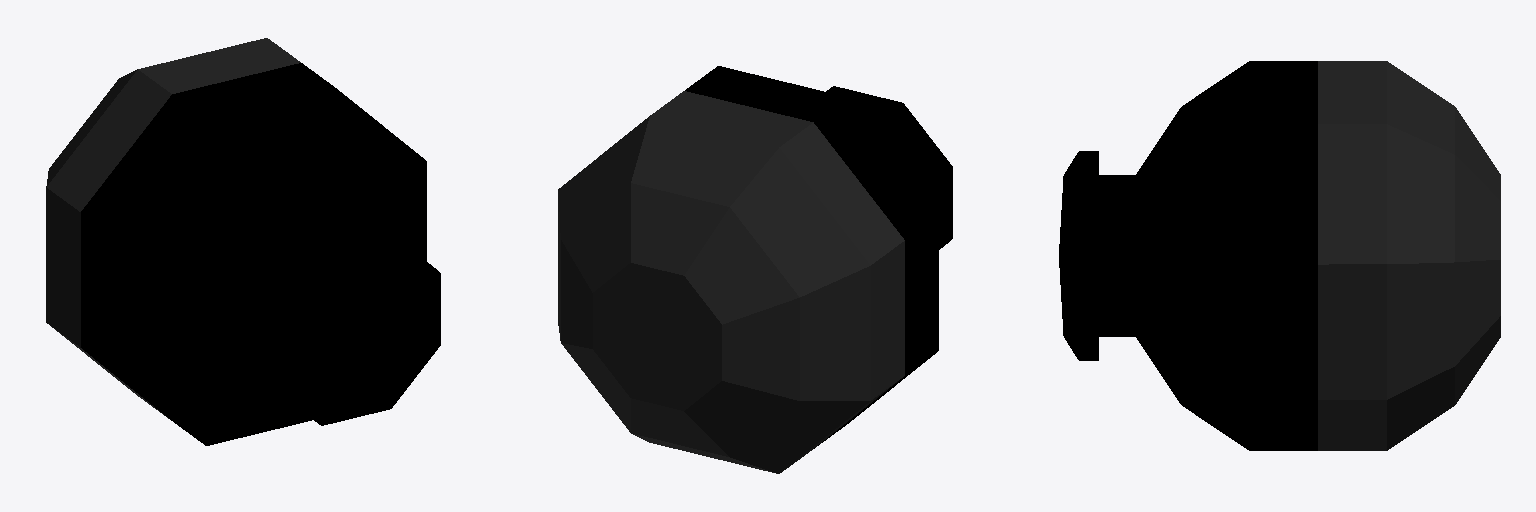
File: steeringwheelback.obj
3 views of the same model, side by side, from view 1: azimuth 30°, elevation 25°; view 2: azimuth 150°, elevation 25°; view 3: azimuth 270°, elevation 25° (orthographic).
Visible parts, largest first — view 1: Steeringwback1; view 2: Steeringwback1; view 3: Steeringwback1.
Part boxes in pixels (left/top/right/bottom): Steeringwback1: left=46, top=38, right=440, bottom=445; Steeringwback1: left=558, top=66, right=952, bottom=473; Steeringwback1: left=1059, top=61, right=1500, bottom=450.
Bounding box in the file's own units: 0.8113 × 0.8113 × 0.9949.